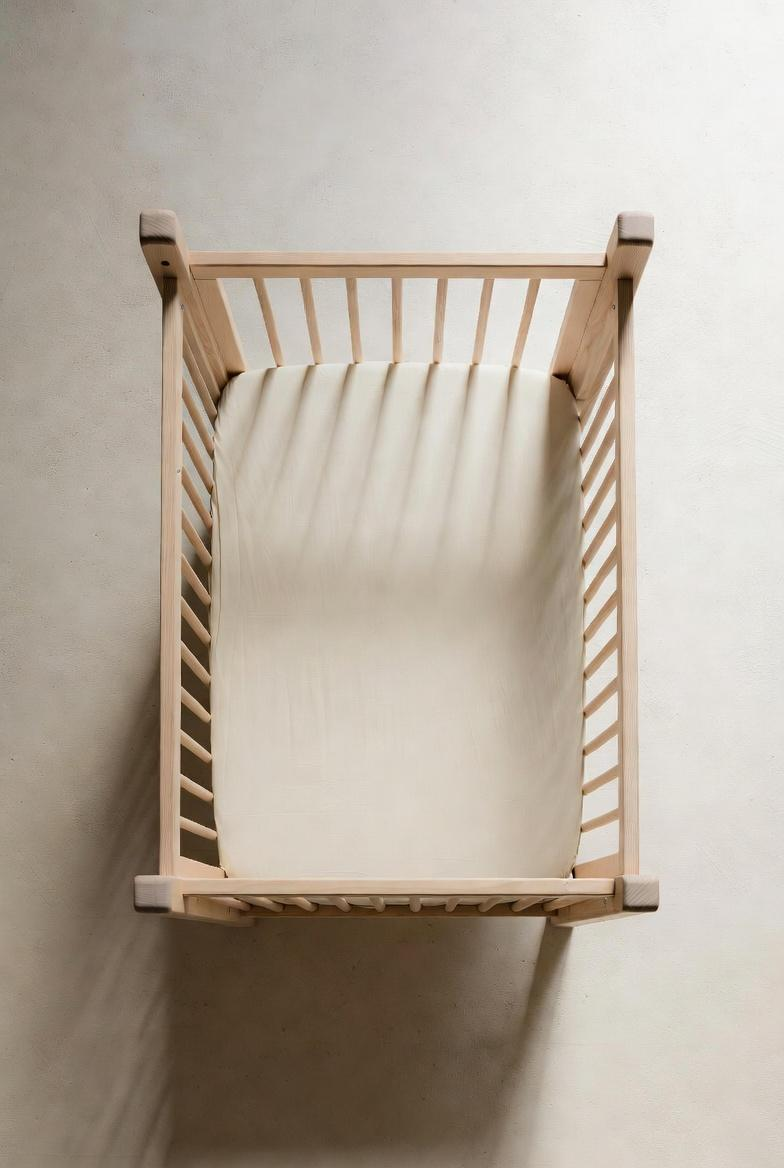crib: (135, 211, 658, 926)
